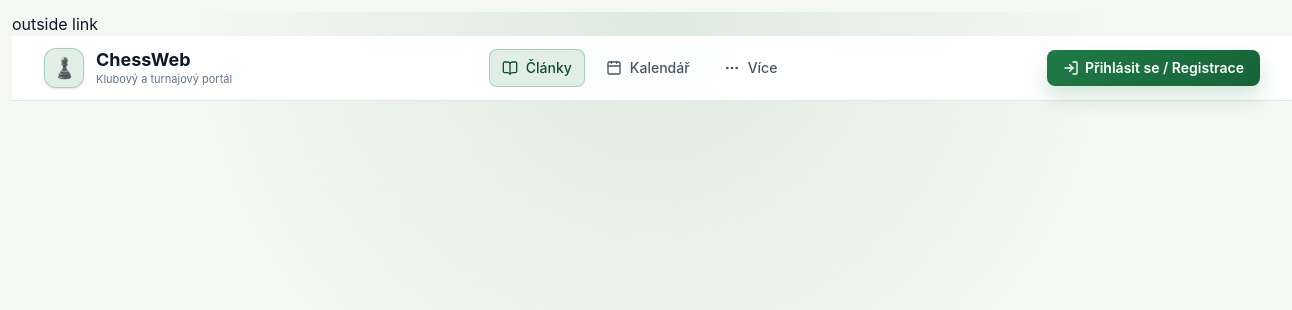
Scenario: Navbar Component › More menu › closes on navigation
Click the button "Více".
click(750, 68)  # box x1=711 y1=49 x2=790 y2=87
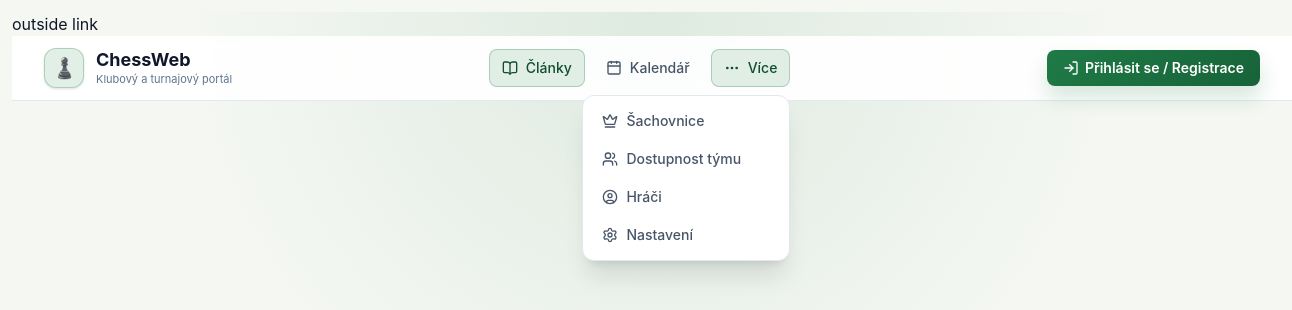
Click the link "outside link".
click(55, 24)  # box x1=12 y1=14 x2=98 y2=34
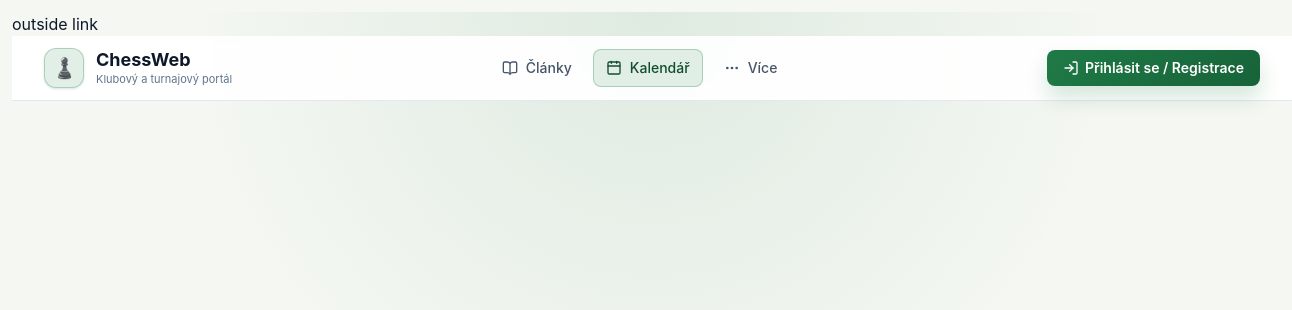
Now the button "Více" is collapsed, box x1=711 y1=49 x2=790 y2=87
